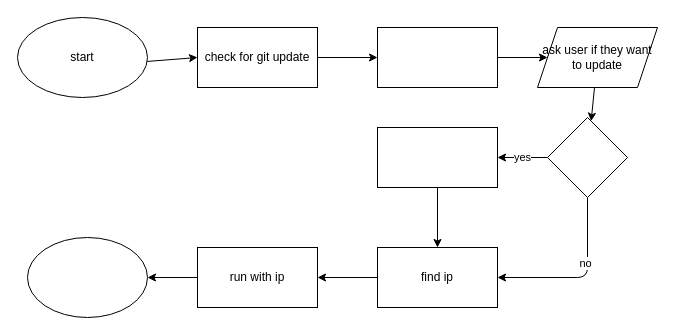
Image size: 675x335. Some labels were removed from this diagram. The shapes that lost their labels are listed below. From the top down, each one's centre as x and y in pixels, then its label:
[437,57]: check for npm update
[437,157]: update
[87,277]: end
